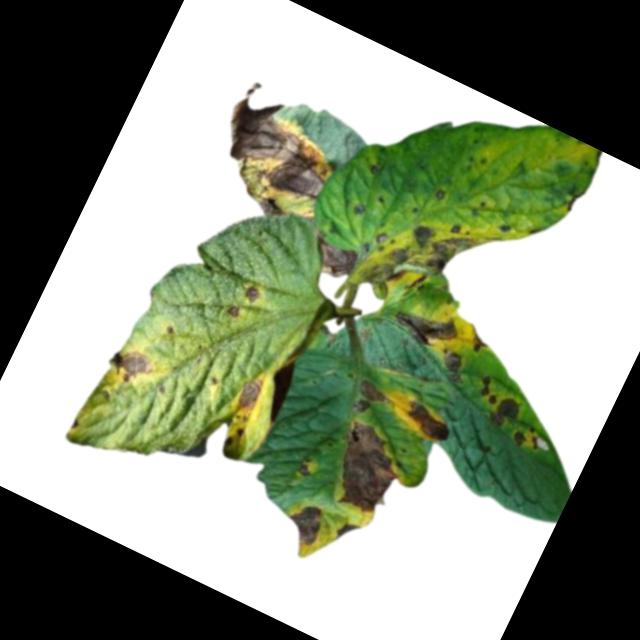Early_blight: (198, 76, 356, 236), (317, 416, 414, 522), (419, 215, 490, 292), (387, 294, 462, 357), (359, 235, 416, 297), (398, 391, 457, 445), (103, 338, 160, 391), (306, 232, 361, 284), (282, 493, 331, 547), (347, 375, 392, 419), (434, 344, 476, 387), (232, 369, 269, 416), (487, 392, 524, 434), (507, 418, 545, 456), (406, 214, 442, 253), (472, 371, 505, 406), (463, 324, 493, 358), (333, 517, 364, 546), (296, 453, 320, 480), (223, 422, 247, 449), (241, 282, 264, 306), (349, 196, 370, 219), (225, 299, 246, 320), (495, 215, 516, 235), (368, 157, 387, 177), (433, 185, 449, 203)
